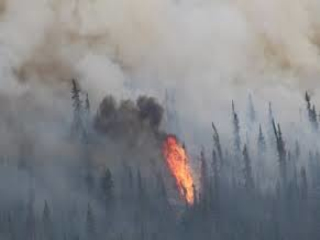fire: (155, 135, 206, 212)
smoke: (168, 8, 316, 104), (13, 7, 165, 96), (94, 88, 160, 211)
